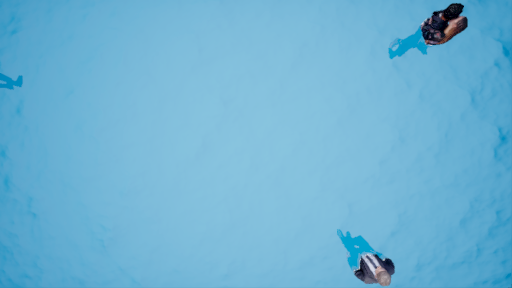person: (386, 2, 478, 59), (333, 226, 400, 286)
